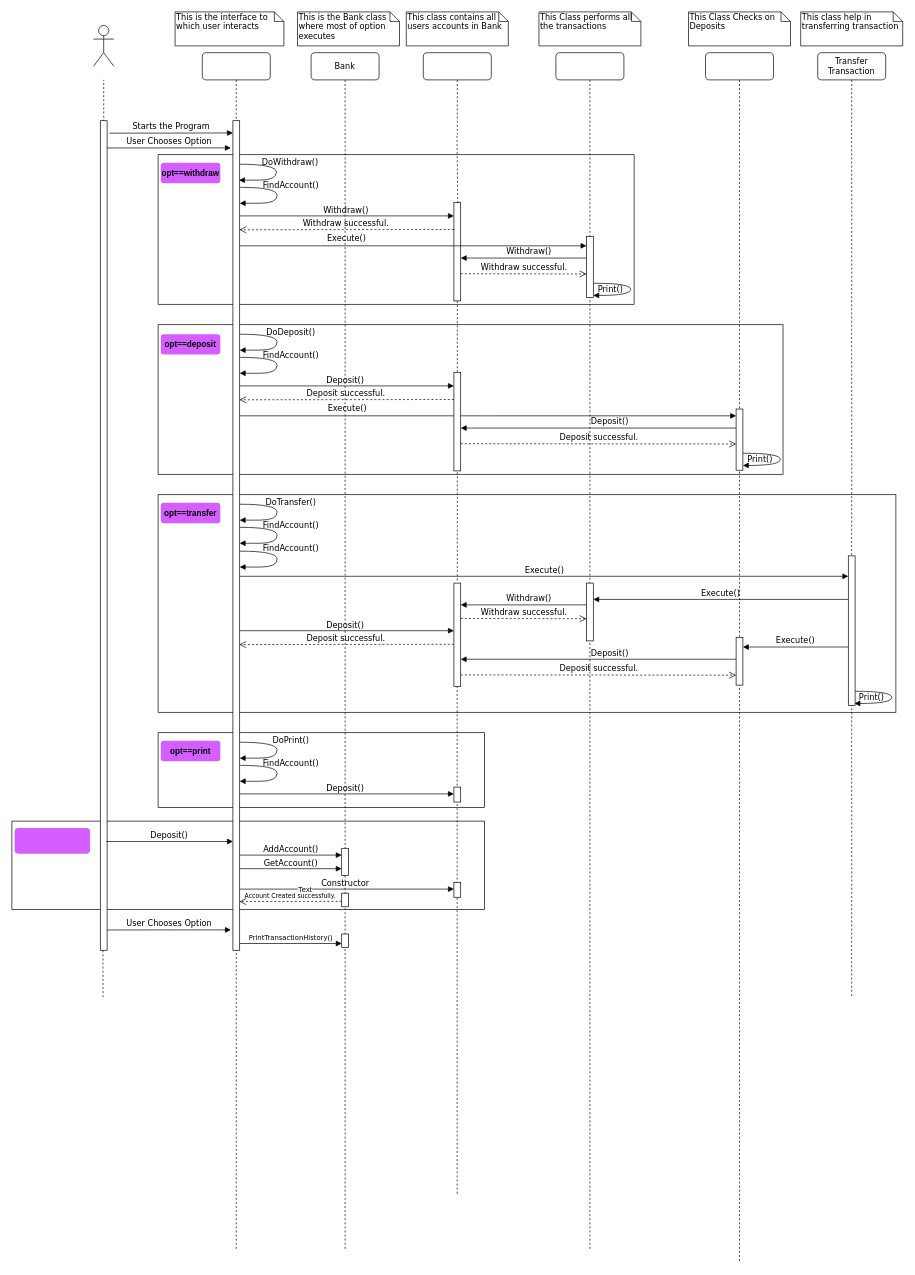
Some shapes in this 915 by 1275 pixel diagram are drawn without their labels. The shapes that lost their labels are listed below. From the top down, each one's box as (x1, y1, x2, y2) in pixels, then its label:
(93, 25, 114, 66): User
(423, 52, 491, 134): Account
(202, 52, 270, 1250): Progrm
(555, 52, 624, 1250): Withdraw Transaction
(705, 52, 774, 1263): Deposit Transaction
(14, 828, 90, 853): opt==newAccount
